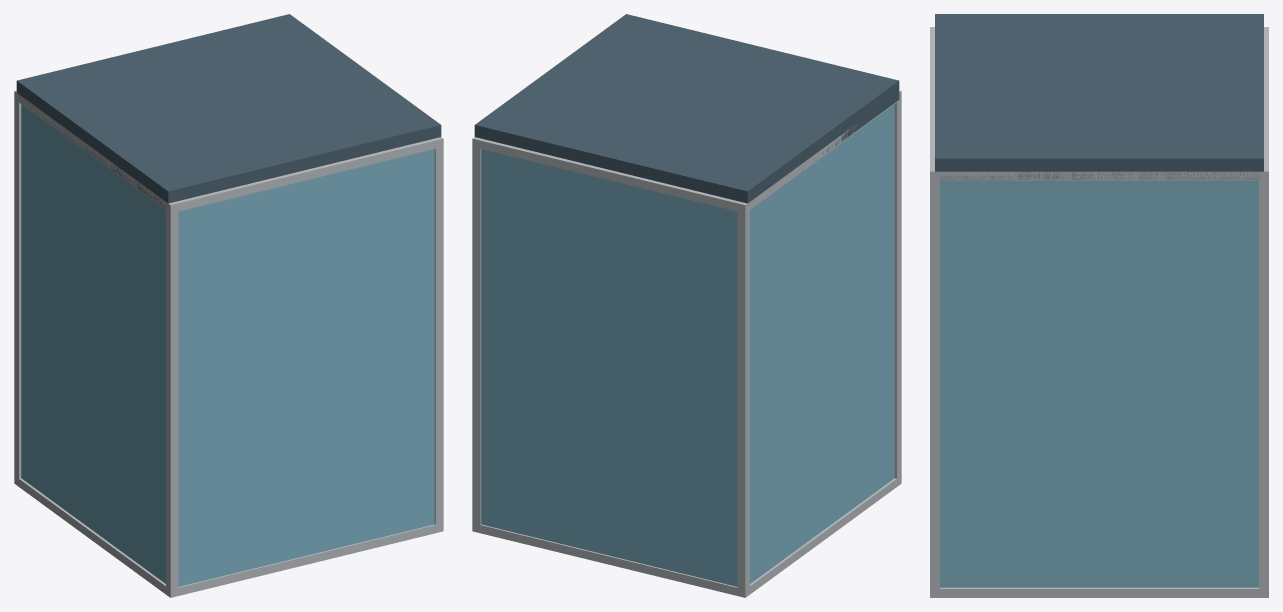
Rendered from 01_L79_TransparentVerticalBondingTower.glb.
3 views of the same model, side by side, from view 1: azimuth 30°, elevation 25°; view 2: azimuth 150°, elevation 25°; view 3: azimuth 270°, elevation 25° (orthographic). The views are drawn at different scales.
Parts seen in each view (by area): view 1: TransparentVerticalBondingTower_Node_0013, TransparentVerticalBondingTower_Node_0014, TransparentVerticalBondingTower_Node_0207, TransparentVerticalBondingTower_Node_0001, TransparentVerticalBondingTower_Node_0003, TransparentVerticalBondingTower_Node_0000, TransparentVerticalBondingTower_Node_0009, TransparentVerticalBondingTower_Node_0005, TransparentVerticalBondingTower_Node_0006, TransparentVerticalBondingTower_Node_0010; view 2: TransparentVerticalBondingTower_Node_0012, TransparentVerticalBondingTower_Node_0014, TransparentVerticalBondingTower_Node_0207, TransparentVerticalBondingTower_Node_0000, TransparentVerticalBondingTower_Node_0002, TransparentVerticalBondingTower_Node_0001, TransparentVerticalBondingTower_Node_0008, TransparentVerticalBondingTower_Node_0004, TransparentVerticalBondingTower_Node_0006, TransparentVerticalBondingTower_Node_0010; view 3: TransparentVerticalBondingTower_Node_0015, TransparentVerticalBondingTower_Node_0207, TransparentVerticalBondingTower_Node_0002, TransparentVerticalBondingTower_Node_0003, TransparentVerticalBondingTower_Node_0007, TransparentVerticalBondingTower_Node_0011, TransparentVerticalBondingTower_Node_0008, TransparentVerticalBondingTower_Node_0009.
Boxes of the visible parts, x1,y1,x2,y2 form: TransparentVerticalBondingTower_Node_0013: [178, 149, 434, 586]; TransparentVerticalBondingTower_Node_0014: [21, 104, 165, 583]; TransparentVerticalBondingTower_Node_0207: [16, 14, 441, 208]; TransparentVerticalBondingTower_Node_0001: [166, 202, 178, 597]; TransparentVerticalBondingTower_Node_0003: [434, 137, 443, 531]; TransparentVerticalBondingTower_Node_0000: [14, 90, 21, 486]; TransparentVerticalBondingTower_Node_0009: [166, 137, 443, 211]; TransparentVerticalBondingTower_Node_0005: [166, 523, 443, 597]; TransparentVerticalBondingTower_Node_0006: [14, 477, 177, 595]; TransparentVerticalBondingTower_Node_0010: [14, 91, 178, 209]; TransparentVerticalBondingTower_Node_0012: [481, 149, 737, 586]; TransparentVerticalBondingTower_Node_0014: [750, 104, 894, 583]; TransparentVerticalBondingTower_Node_0207: [474, 14, 899, 203]; TransparentVerticalBondingTower_Node_0000: [737, 201, 749, 597]; TransparentVerticalBondingTower_Node_0002: [472, 137, 481, 531]; TransparentVerticalBondingTower_Node_0001: [894, 91, 901, 486]; TransparentVerticalBondingTower_Node_0008: [473, 137, 749, 211]; TransparentVerticalBondingTower_Node_0004: [472, 523, 747, 597]; TransparentVerticalBondingTower_Node_0006: [738, 478, 901, 597]; TransparentVerticalBondingTower_Node_0010: [739, 101, 896, 212]; TransparentVerticalBondingTower_Node_0015: [940, 180, 1258, 587]; TransparentVerticalBondingTower_Node_0207: [935, 14, 1263, 179]; TransparentVerticalBondingTower_Node_0002: [1259, 167, 1268, 597]; TransparentVerticalBondingTower_Node_0003: [930, 167, 939, 597]; TransparentVerticalBondingTower_Node_0007: [930, 587, 1264, 597]; TransparentVerticalBondingTower_Node_0011: [930, 169, 1268, 180]; TransparentVerticalBondingTower_Node_0008: [1259, 28, 1268, 180]; TransparentVerticalBondingTower_Node_0009: [930, 28, 939, 180].
Bounding box in the file's own units: 5.2 × 7.37 × 5.15.
